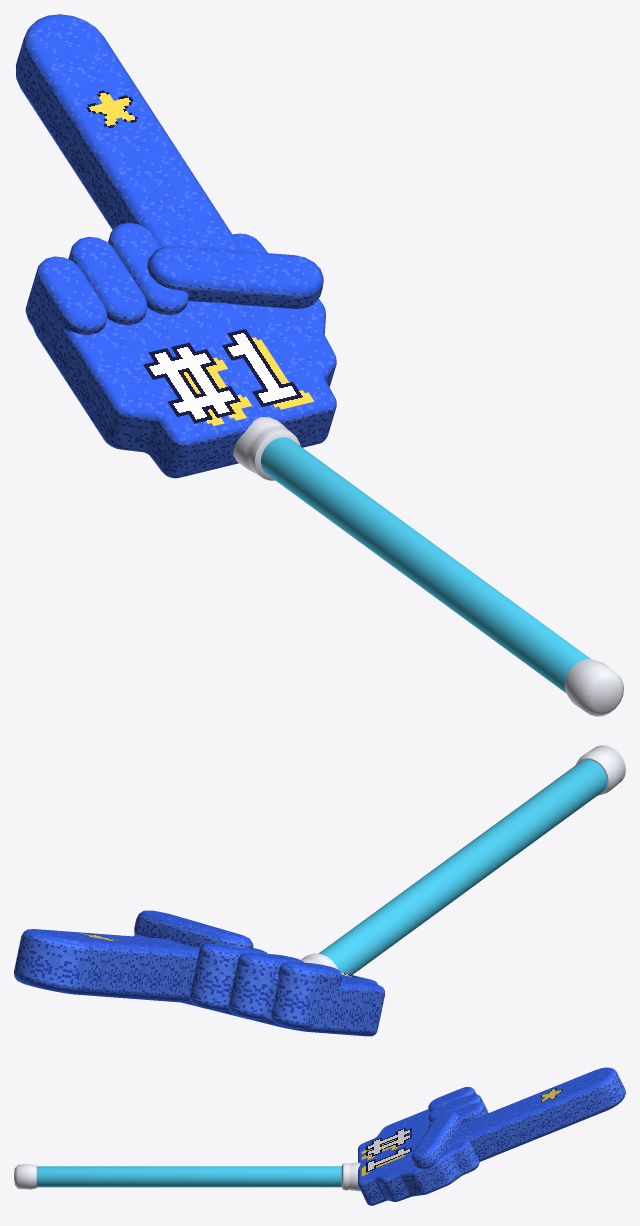
File: w_slapper_foam.glb
3 views of the same model, one above another, from view 1: azimuth 30°, elevation 25°; view 2: azimuth 150°, elevation 25°; view 3: azimuth 270°, elevation 25° (orthographic). The views are drawn at different scales.
Visible parts, largest first — view 1: foamhand_wzB, foamstick_wzA, foamhand_wzN; view 2: foamhand_wzB, foamstick_wzA; view 3: foamhand_wzB, foamstick_wzA, foamhand_wzN.
Boxes of the visible parts, bbox=[...] form: foamhand_wzB: bbox=[15, 14, 336, 478]; foamstick_wzA: bbox=[233, 417, 623, 716]; foamhand_wzN: bbox=[86, 90, 314, 425]; foamhand_wzB: bbox=[14, 910, 384, 1036]; foamstick_wzA: bbox=[301, 745, 625, 974]; foamhand_wzB: bbox=[358, 1067, 625, 1205]; foamstick_wzA: bbox=[14, 1162, 360, 1191]; foamhand_wzN: bbox=[361, 1088, 562, 1176].
Size of the model in its own units: 0.199 by 0.2028 by 0.8701.
7 materials, 5 textured.
